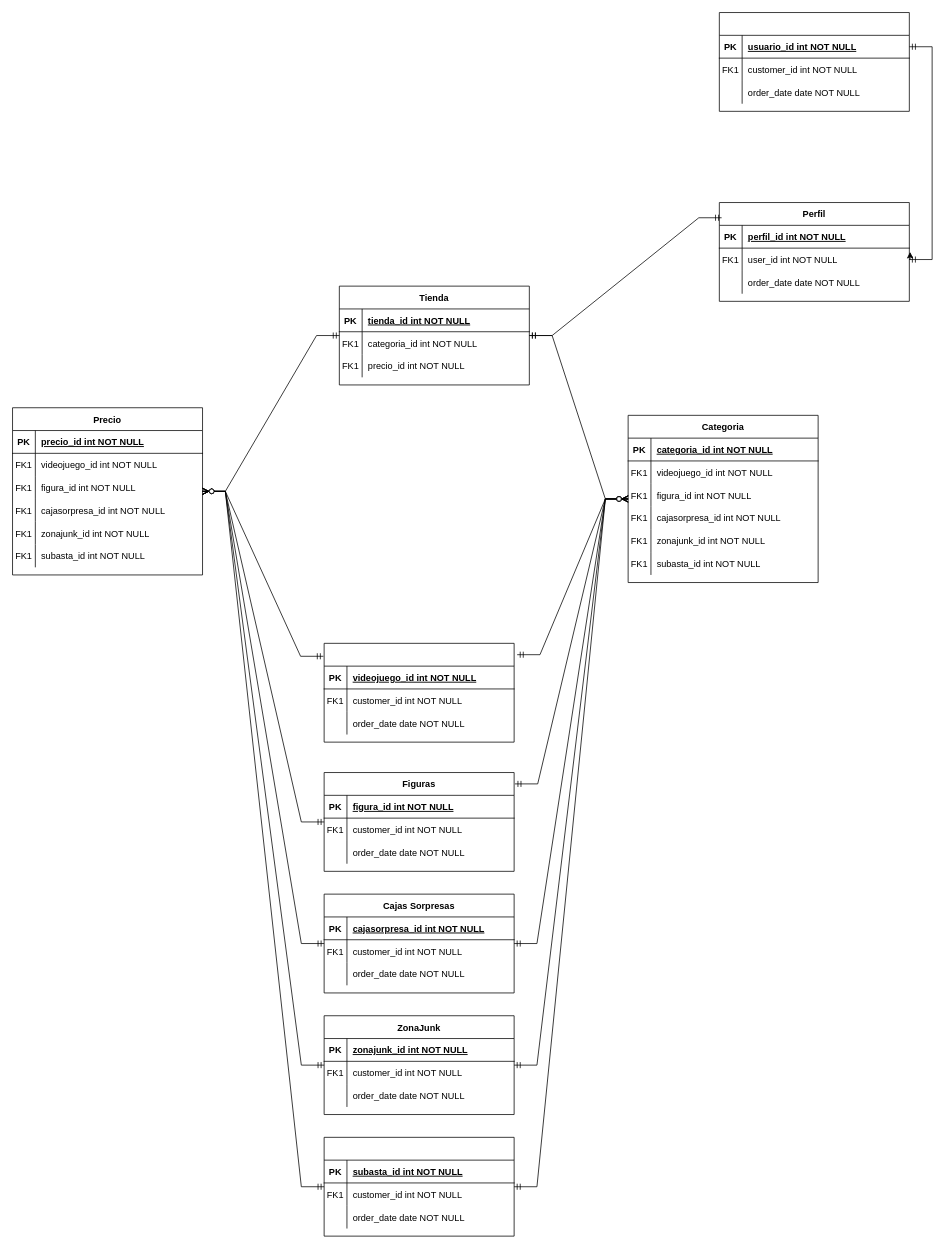
The diagram is 945 pixels wide and 1249 high, and some of its shapes have lost their labels. Each missing label, with the box of its shape:
Subastas: (323, 1137, 514, 1236)
Usuarios: (719, 12, 909, 111)
VideoJuegos: (323, 643, 514, 742)
